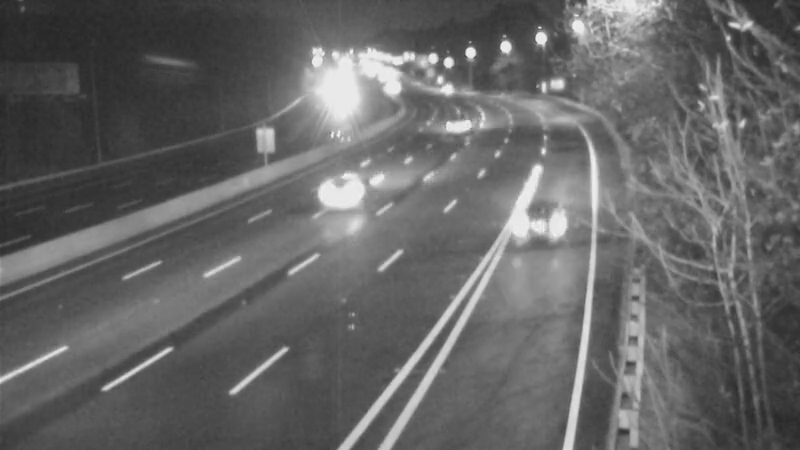vehicle: (511, 181, 591, 261), (314, 155, 394, 235), (433, 93, 483, 143)
